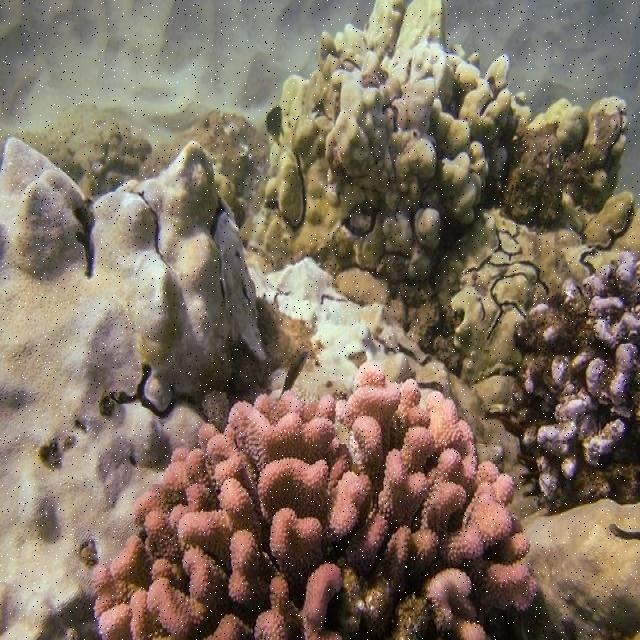reefs: (240, 0, 639, 639), (0, 138, 267, 638), (93, 362, 538, 639), (484, 251, 639, 512)
